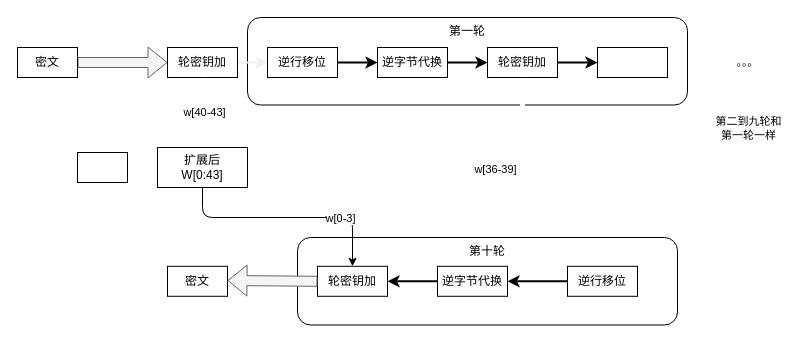
Image size: 798x343. Some labels were removed from this diagram. The shapes that lost their labels are listed below. From the top down, each one's centre as x and y in pixels, then its label:
At (x=632, y=62): "逆列混淆".
At (x=102, y=167): "密钥".
